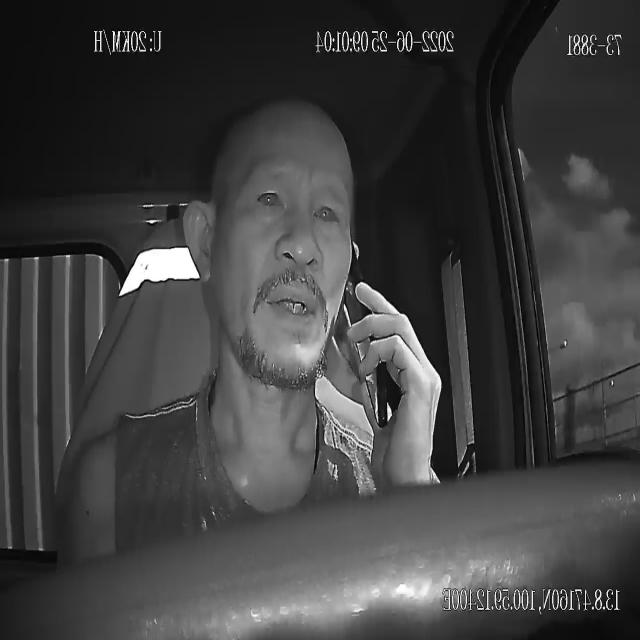phone: (343, 240, 389, 432)
